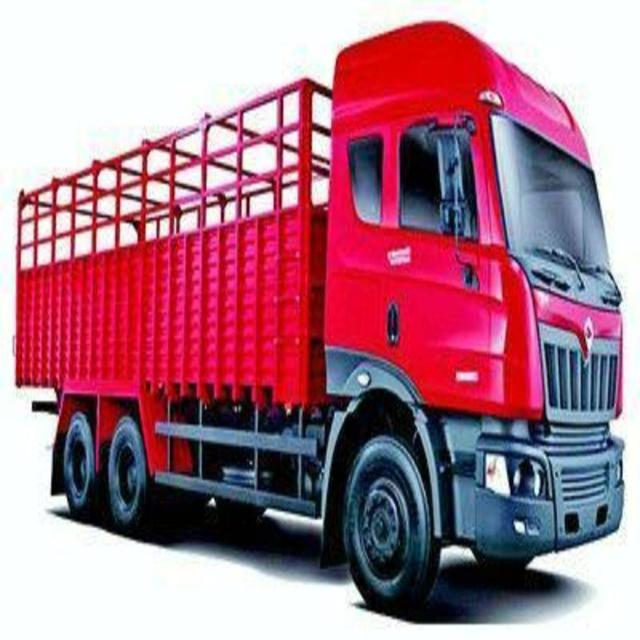truck: (15, 22, 624, 611)
